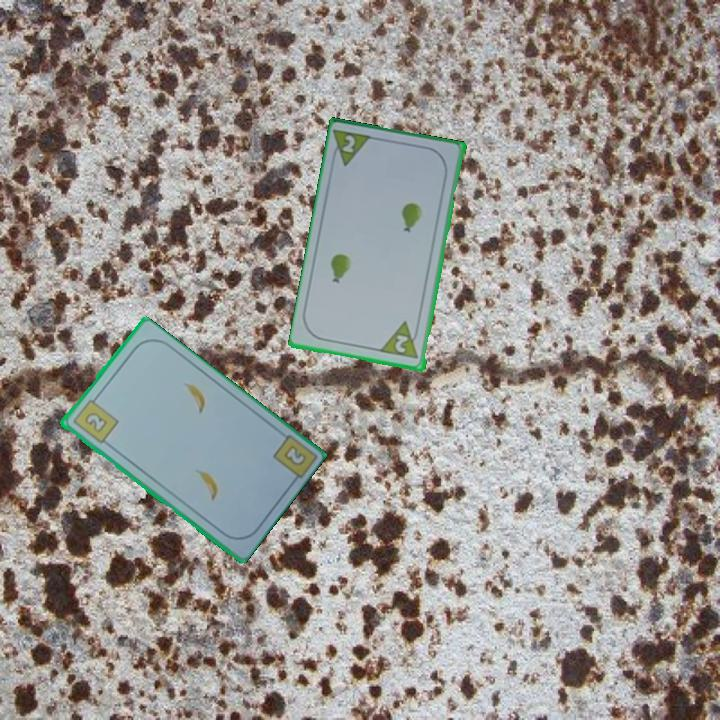2b: (69, 392, 121, 446), (280, 441, 309, 469)
2p: (378, 318, 423, 362), (339, 132, 359, 156)
